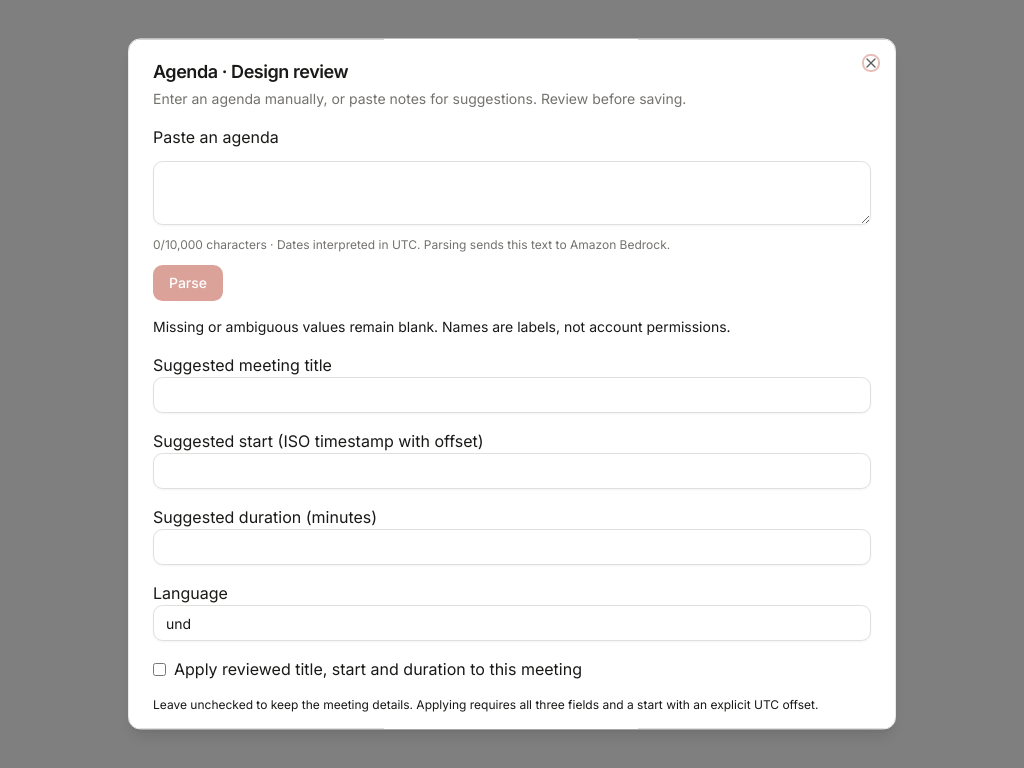
it: Agendas › shows parser failure and keeps manual entry available
Type "Pricing sync" into the text box labelled "Paste an agenda". click: (512, 193)
box: [153,161,871,225]
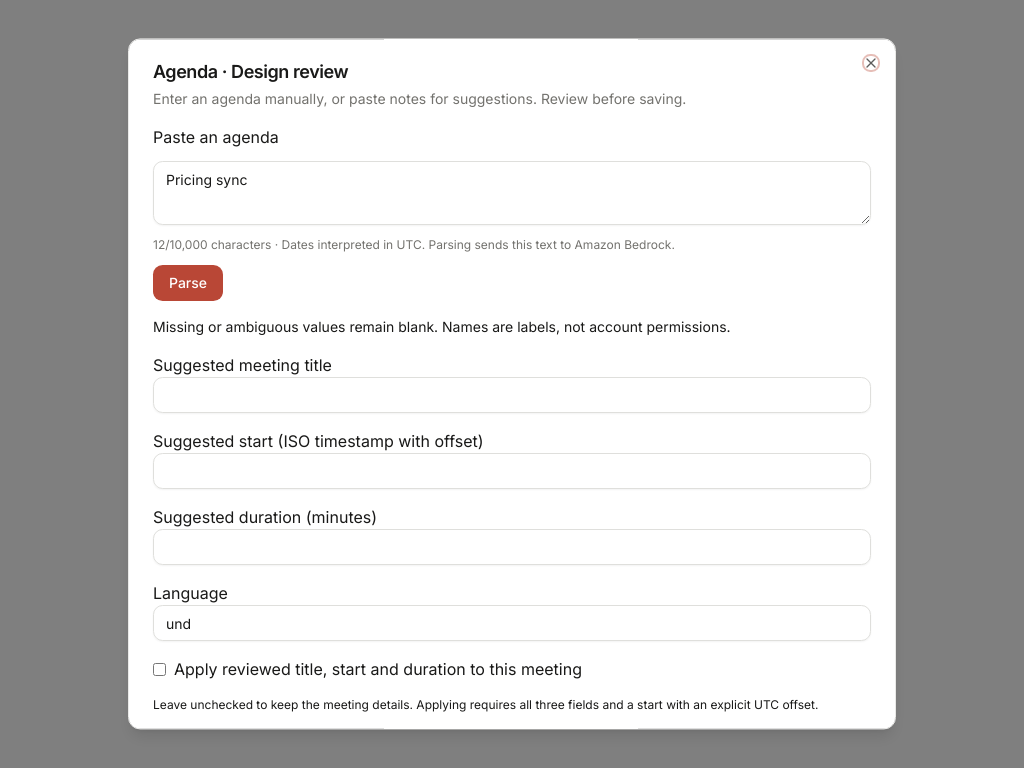
Click the button "Parse". click: click(188, 283)
box: [153,265,223,301]
(page scrolled)
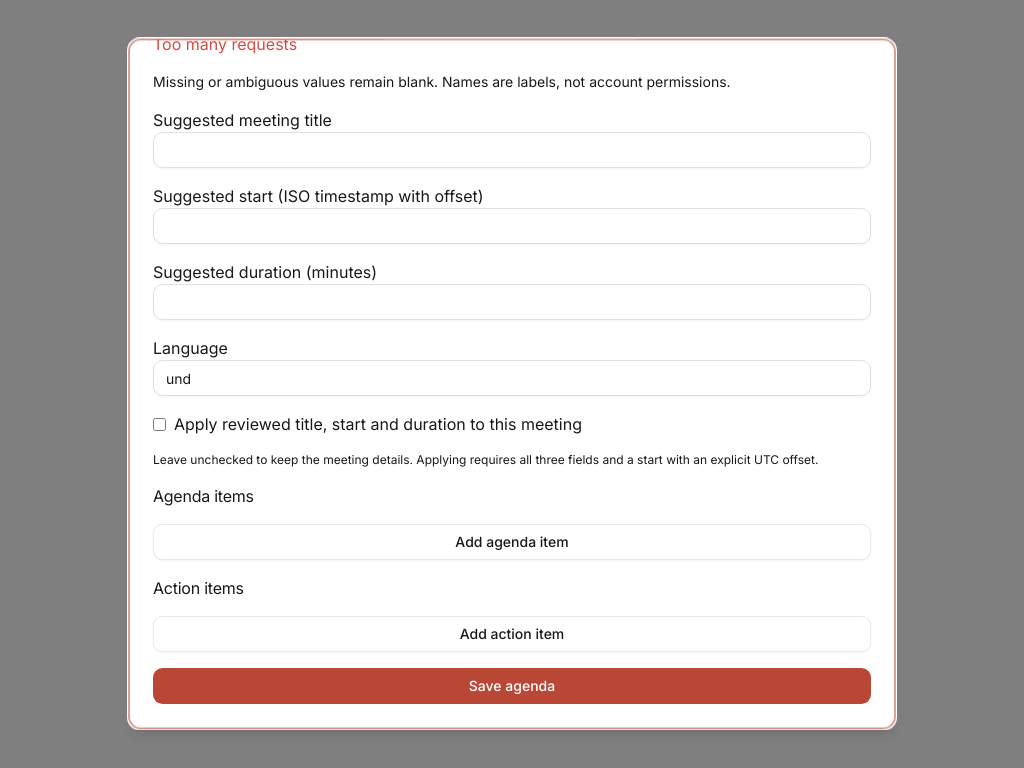
Check: the message reads "Too many requests", box [153,38,297,54]
Check: the button "Add agenda item" is enabled, box [153,524,871,560]
